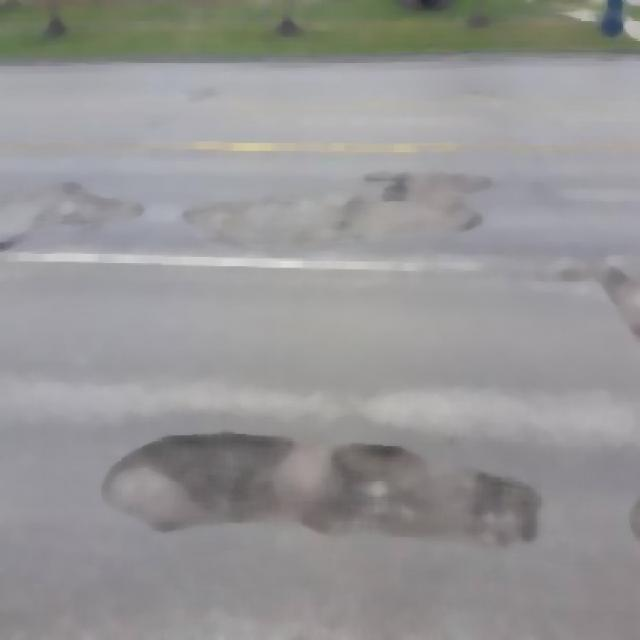Pothole: (101, 422, 553, 549)
